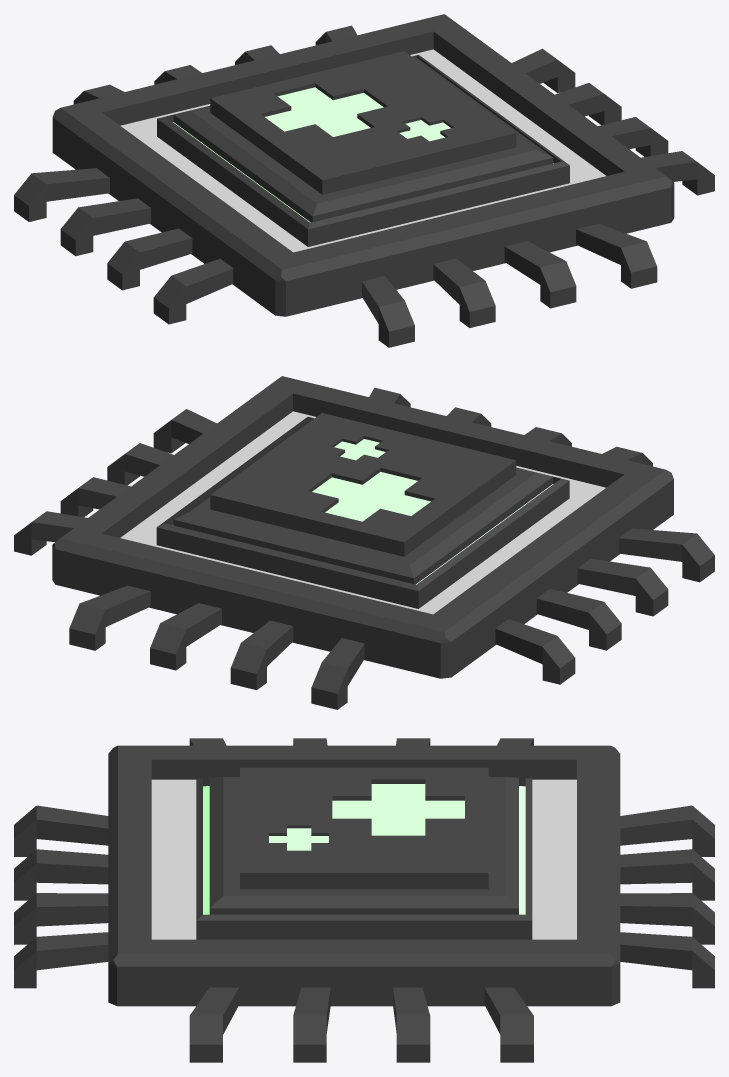
The model's file is deadlyHeal.fbx.
3 renders of one model, top to bottom at view 1: azimuth 30°, elevation 25°; view 2: azimuth 150°, elevation 25°; view 3: azimuth 270°, elevation 25°, orthographic. The views are drawn at different scales.
Visible parts, largest first — view 1: Plane; view 2: Plane; view 3: Plane.
Part boxes in pixels (x1,y1,x2,y2): Plane: (14,14,714,347); Plane: (14,376,714,709); Plane: (14,738,714,1062).
Size of the model in its own units: 274 by 40.54 by 274.
